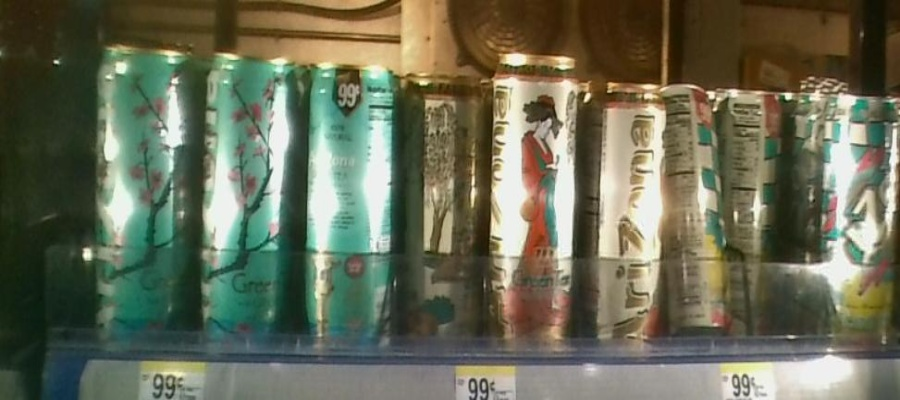bottle: (197, 17, 302, 367), (92, 22, 193, 358), (307, 16, 398, 367), (487, 46, 579, 355), (402, 38, 482, 358), (582, 61, 663, 365), (820, 77, 898, 362), (664, 71, 726, 363), (726, 76, 787, 356)
